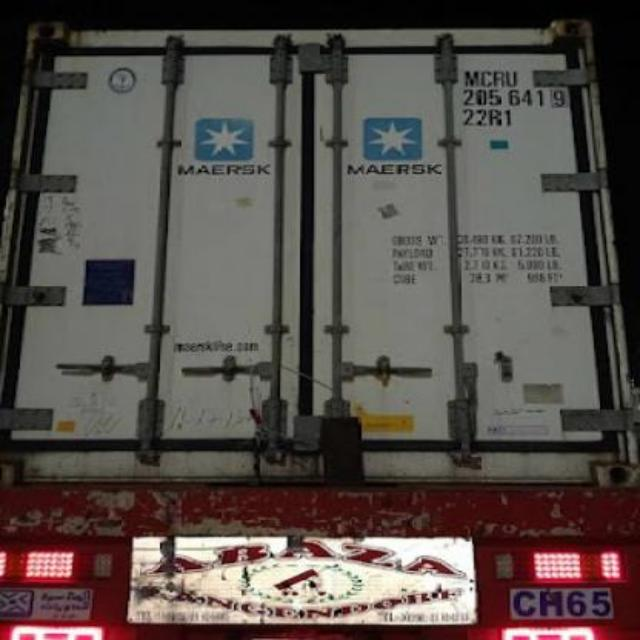0: (472, 88, 488, 108)
1: (532, 85, 550, 112)
2: (462, 87, 476, 107)
4: (520, 85, 534, 112)
5: (488, 87, 506, 107)
6: (504, 87, 522, 105)
9: (548, 85, 566, 109)
C: (481, 66, 494, 86)
M: (464, 66, 480, 86)
R: (492, 64, 506, 86)
U: (502, 66, 518, 86)
